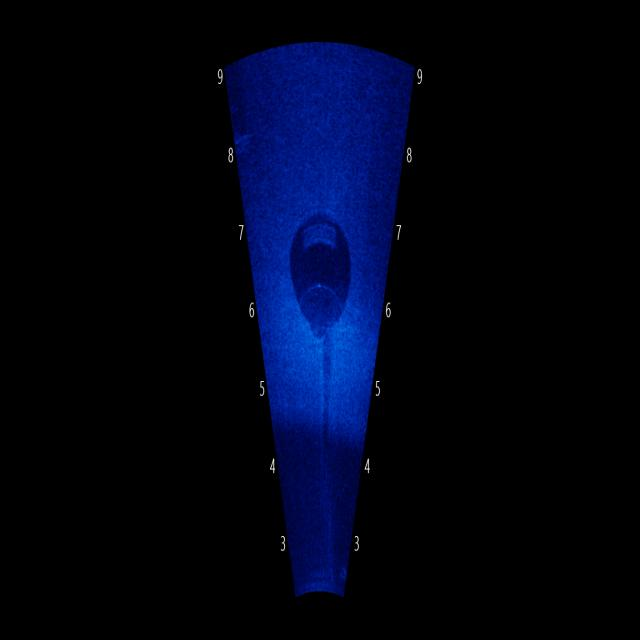circle: (266, 175, 362, 363)
